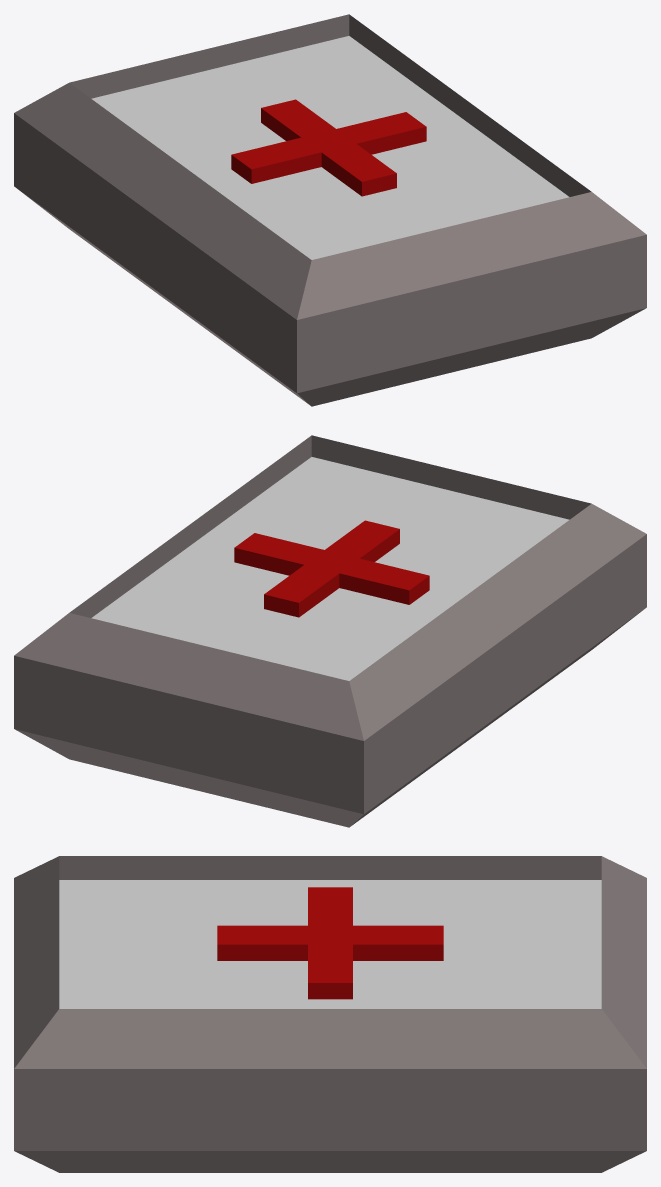
Rendered from healthpack_twinstick.fbx.
3 views of the same model, one above another, from view 1: azimuth 30°, elevation 25°; view 2: azimuth 150°, elevation 25°; view 3: azimuth 270°, elevation 25° (orthographic). The views are drawn at different scales.
Visible parts, largest first — view 1: pCube6; view 2: pCube6; view 3: pCube6.
Boxes of the visible parts, bbox=[...] form: pCube6: bbox=[14, 14, 646, 406]; pCube6: bbox=[14, 435, 646, 827]; pCube6: bbox=[14, 856, 646, 1172].
Size of the model in its own units: 5 by 2 by 7.
